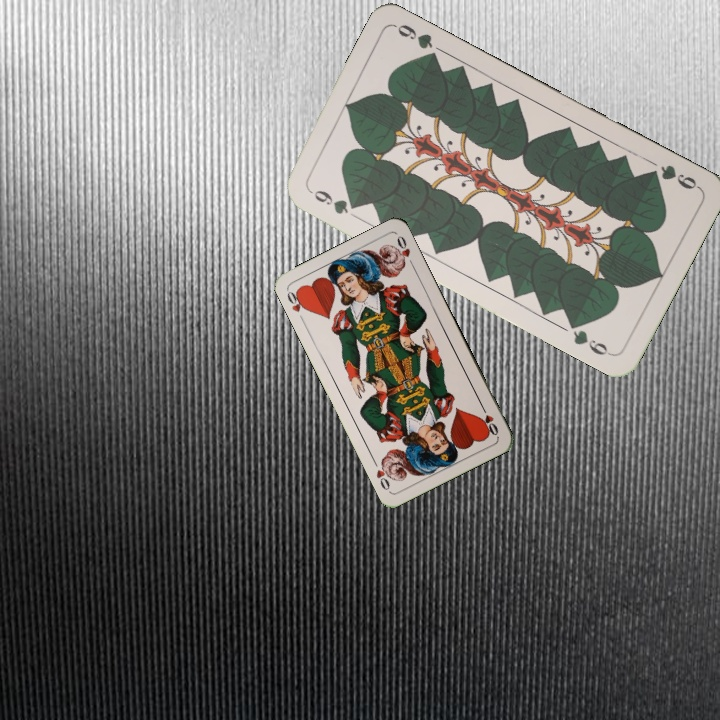G9: (643, 160, 703, 192), (305, 185, 361, 217)
HO: (283, 286, 310, 325), (477, 401, 501, 438)
